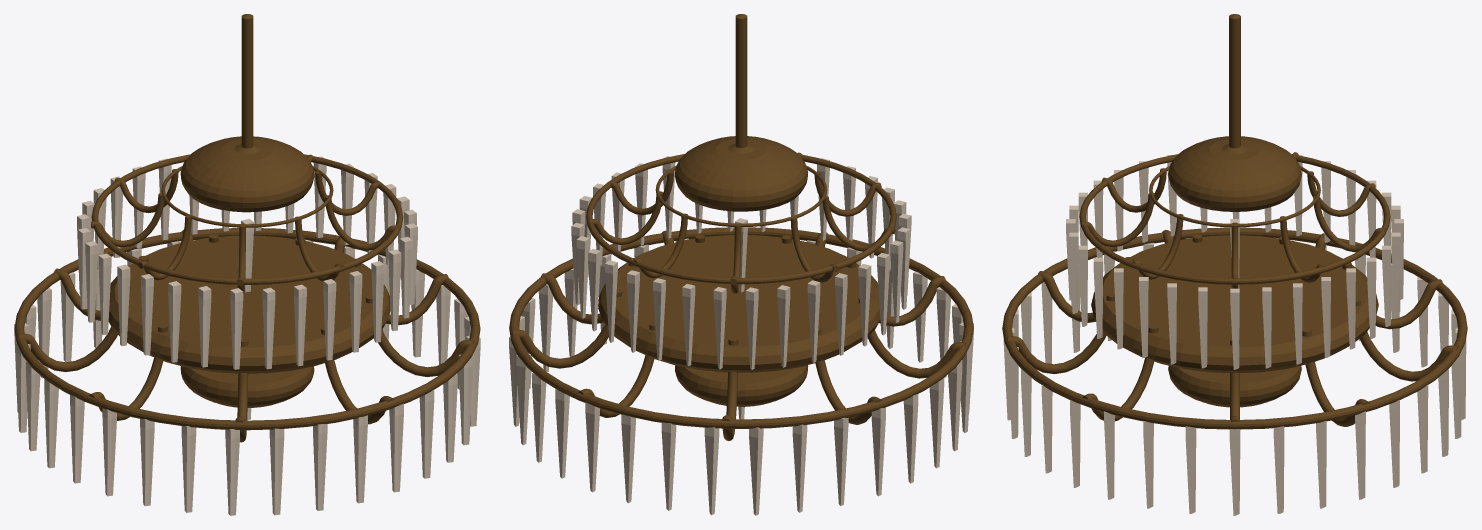
Rendered from DTYDFittings.fbx_Chandelier.fbx.
3 views of the same model, side by side, from view 1: azimuth 30°, elevation 25°; view 2: azimuth 150°, elevation 25°; view 3: azimuth 270°, elevation 25° (orthographic).
Parts seen in each view (by area): view 1: Sphere.005, Sphere.006, Torus.008, BézierCurve.057, BézierCurve.059, Torus.003, Sphere.004, Circle|Cube.103|Dupli|14, Circle|Cube.103|Dupli|12, Circle|Cube.103|Dupli|13, Circle|Cube.103|Dupli|15, Circle|Cube.103|Dupli|16 (+39 smaller); view 2: Sphere.005, Sphere.006, Torus.008, BézierCurve.057, BézierCurve.059, Torus.003, Sphere.004, Torus.005, Circle|Cube.103|Dupli|2, Circle|Cube.103|Dupli|1, Circle|Cube.103|Dupli|3, Circle|Cube.103|Dupli| (+36 smaller); view 3: Sphere.005, Sphere.006, Torus.008, BézierCurve.057, BézierCurve.059, Torus.003, Sphere.004, Torus.005, Circle|Cube.103|Dupli|26, Circle|Cube.103|Dupli|25, Circle|Cube.103|Dupli|21, Circle|Cube.103|Dupli|22 (+31 smaller).
Part boxes in pixels (x1,y1,x2,y2): Sphere.005: [108, 235, 390, 373]; Sphere.006: [180, 14, 314, 212]; Torus.008: [14, 228, 480, 430]; BézierCurve.057: [18, 230, 474, 442]; BézierCurve.059: [91, 154, 398, 293]; Torus.003: [91, 154, 403, 284]; Sphere.004: [180, 366, 314, 407]; Circle|Cube.103|Dupli|14: [269, 428, 284, 515]; Circle|Cube.103|Dupli|12: [181, 426, 196, 512]; Circle|Cube.103|Dupli|13: [225, 429, 239, 515]; Circle|Cube.103|Dupli|15: [313, 424, 327, 510]; Circle|Cube.103|Dupli|16: [353, 415, 367, 503]; Sphere.005: [598, 235, 880, 372]; Sphere.006: [675, 14, 808, 211]; Torus.008: [509, 227, 973, 428]; BézierCurve.057: [512, 230, 966, 440]; BézierCurve.059: [589, 152, 895, 293]; Torus.003: [586, 154, 896, 284]; Sphere.004: [675, 365, 808, 406]; Torus.005: [655, 165, 827, 227]; Circle|Cube.103|Dupli|2: [704, 427, 719, 515]; Circle|Cube.103|Dupli|1: [661, 422, 676, 510]; Circle|Cube.103|Dupli|3: [749, 427, 763, 515]; Circle|Cube.103|Dupli|: [621, 414, 635, 503]; Sphere.005: [1091, 235, 1378, 373]; Sphere.006: [1168, 14, 1301, 211]; Torus.008: [1002, 227, 1467, 429]; BézierCurve.057: [1007, 230, 1458, 426]; BézierCurve.059: [1081, 152, 1385, 288]; Torus.003: [1079, 154, 1390, 284]; Sphere.004: [1168, 365, 1301, 407]; Torus.005: [1149, 166, 1320, 227]; Circle|Cube.103|Dupli|26: [1316, 421, 1326, 508]; Circle|Cube.103|Dupli|25: [1273, 426, 1284, 513]; Circle|Cube.103|Dupli|21: [1104, 411, 1114, 499]; Circle|Cube.103|Dupli|22: [1143, 421, 1153, 508].
Bounding box in the file's own units: 695 × 668 × 695.
